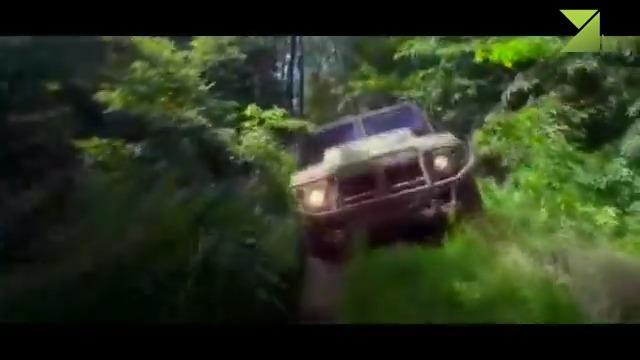MIL_HMMWV: (288, 97, 483, 265)
